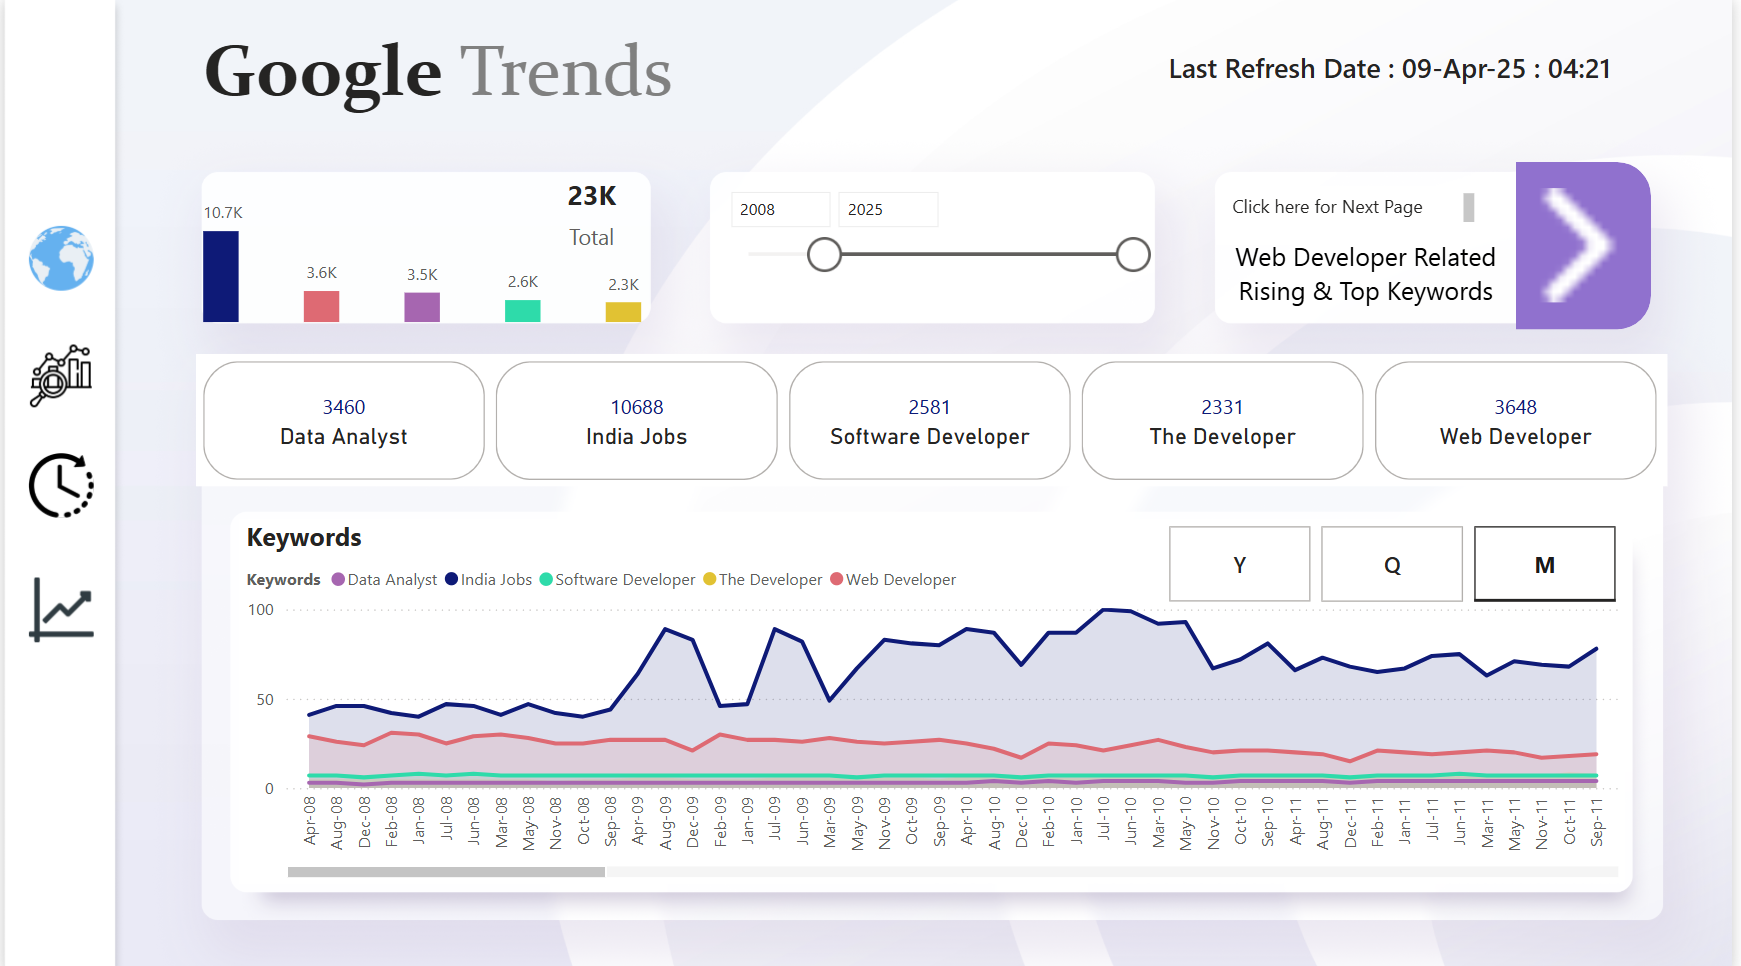

Layout of this report page (visuals, bound fields, positions):
{"tool":"powerbi","page":{"name":"Keywords by Date","canvas":[1280,720],"ordinal":1},"visuals":[{"type":"areaChart","title":"Keywords","fields":{"Category":["By_Date_API.Month-Yr"],"Y":["By_Date_API.By_Date_Value"],"Series":["By_Date_API.Keywords"]},"box":[174,384,1026,270],"z":4000},{"type":"advancedSlicerVisual","fields":{"Values":["Dynamic_Date.Dynamic_Date"]},"box":[858,384,342,66],"z":5000},{"type":"advancedSlicerVisual","fields":{"Values":["By_Date_API.Keywords"]},"box":[142,262,1090,98],"z":6000},{"type":"clusteredColumnChart","fields":{"Y":["By_Date_API.By_Date_Value"],"Category":["By_Date_API.Keywords"]},"box":[142,132,338,112],"z":7000},{"type":"card","fields":{"Values":["By_Date_API.By_Date_Value"]},"box":[390,126,90,62],"z":8000},{"type":"slicer","fields":{"Values":["By_Date_API.Year"]},"box":[526,132,332,112],"z":9000},{"type":"textbox","box":[898,138,196,44],"z":10000},{"type":"textbox","box":[142,14,534,76],"z":11000},{"type":"card","fields":{"Values":["Min(Refresh_Date.Refresh_Date)"]},"box":[820,24,412,54],"z":12000},{"type":"actionButton","box":[1120,120,100,124],"z":13000},{"type":"shape","box":[898,160,222,84],"z":13001},{"type":"actionButton","box":[14,160,56,62],"z":13002},{"type":"actionButton","box":[14,244,56,68],"z":13003},{"type":"actionButton","box":[14,326,56,68],"z":13004},{"type":"actionButton","box":[14,418,56,68],"z":13005}]}

Visuals, with their boxes in screenshot pixels (x1, y1, x2, y2), scaled from the page's 1280x720 canvas onto the 1741x966 screenshot:
"Keywords" areaChart: bbox(237, 515, 1632, 877)
advancedSlicerVisual - Dynamic_Date.Dynamic_Date: bbox(1167, 515, 1632, 604)
advancedSlicerVisual - By_Date_API.Keywords: bbox(193, 352, 1676, 483)
clusteredColumnChart - By_Date_API.By_Date_Value x By_Date_API.Keywords: bbox(193, 177, 653, 327)
card - By_Date_API.By_Date_Value: bbox(530, 169, 653, 252)
slicer - By_Date_API.Year: bbox(715, 177, 1167, 327)
textbox: bbox(1221, 185, 1488, 244)
textbox: bbox(193, 19, 919, 121)
card - Min(Refresh_Date.Refresh_Date): bbox(1115, 32, 1676, 105)
actionButton: bbox(1523, 161, 1659, 327)
shape: bbox(1221, 215, 1523, 327)
actionButton: bbox(19, 215, 95, 298)
actionButton: bbox(19, 327, 95, 419)
actionButton: bbox(19, 437, 95, 529)
actionButton: bbox(19, 561, 95, 652)
